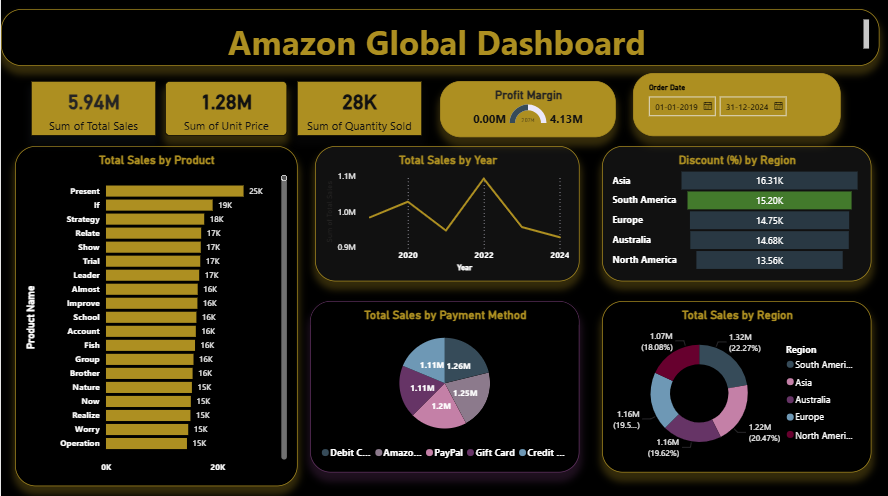

The page's visual inventory and layout, read from the dashboard file:
{"tool":"powerbi","page":{"name":"Page 1","canvas":[1280,720],"ordinal":0},"visuals":[{"type":"clusteredBarChart","title":"Total Sales by Product","fields":{"Category":["amazon_sales_dataset.Product Name"],"Y":["Sum(amazon_sales_dataset.Total Sales)"]},"box":[20.2,215,406.5,490.5],"z":0},{"type":"pieChart","title":"Total Sales by Payment Method","fields":{"Category":["amazon_sales_dataset.Payment Method"],"Y":["Sum(amazon_sales_dataset.Total Sales)"]},"box":[445.1,438.4,388,246.9],"z":1000},{"type":"card","fields":{"Values":["Sum(amazon_sales_dataset.Total Sales)"]},"box":[43.7,120.9,179.7,79],"z":2000},{"type":"card","fields":{"Values":["Sum(amazon_sales_dataset.Unit Price)"]},"box":[236.9,120.9,176.4,79],"z":3000},{"type":"card","fields":{"Values":["Sum(amazon_sales_dataset.Quantity Sold)"]},"box":[426.7,120.9,179.7,79],"z":4000},{"type":"donutChart","title":"Total Sales by Region","fields":{"Y":["Sum(amazon_sales_dataset.Total Sales)"],"Category":["amazon_sales_dataset.Region"]},"box":[865.1,438.4,388,246.9],"z":5000},{"type":"textbox","box":[0,16.8,1264.9,82.3],"z":6000},{"type":"lineChart","title":"Total Sales by Year","fields":{"Category":["amazon_sales_dataset.Order Date.Variation.Date Hierarchy.Year","amazon_sales_dataset.Order Date.Variation.Date Hierarchy.Quarter","amazon_sales_dataset.Order Date.Variation.Date Hierarchy.Month","amazon_sales_dataset.Order Date.Variation.Date Hierarchy.Day"],"Y":["Sum(amazon_sales_dataset.Total Sales)"]},"box":[451.9,215,381.3,194.9],"z":7000},{"type":"funnel","title":"Discount (%) by Region","fields":{"Category":["amazon_sales_dataset.Region"],"Y":["Sum(amazon_sales_dataset.Discount (%))"]},"box":[865.1,215,388,194.9],"z":8000},{"type":"gauge","title":"Profit Margin","fields":{"Y":["Sum(amazon_sales_dataset.Profit Margin)"]},"box":[632.2,121,253.4,80.6],"z":10000},{"type":"slicer","fields":{"Values":["amazon_sales_dataset.Order Date"]},"box":[910.4,109.2,299,90.7],"z":10001}]}

Visuals, with their boxes in screenshot pixels (x1, y1, x2, y2), scaled from the page's 1280x720 canvas onto the 888x496 screenshot:
"Total Sales by Product" clusteredBarChart: 14/148/296/486
"Total Sales by Payment Method" pieChart: 309/302/578/472
card - Sum(amazon_sales_dataset.Total Sales): 30/83/155/138
card - Sum(amazon_sales_dataset.Unit Price): 164/83/287/138
card - Sum(amazon_sales_dataset.Quantity Sold): 296/83/421/138
"Total Sales by Region" donutChart: 600/302/869/472
textbox: 0/12/878/68
"Total Sales by Year" lineChart: 314/148/578/282
"Discount (%) by Region" funnel: 600/148/869/282
"Profit Margin" gauge: 439/83/614/139
slicer - amazon_sales_dataset.Order Date: 632/75/839/138
